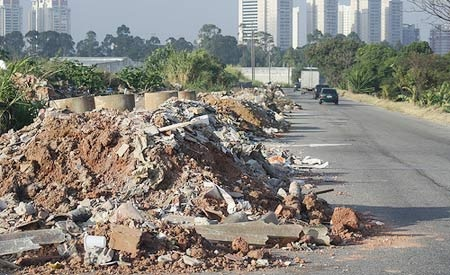rubble: (13, 105, 277, 262)
